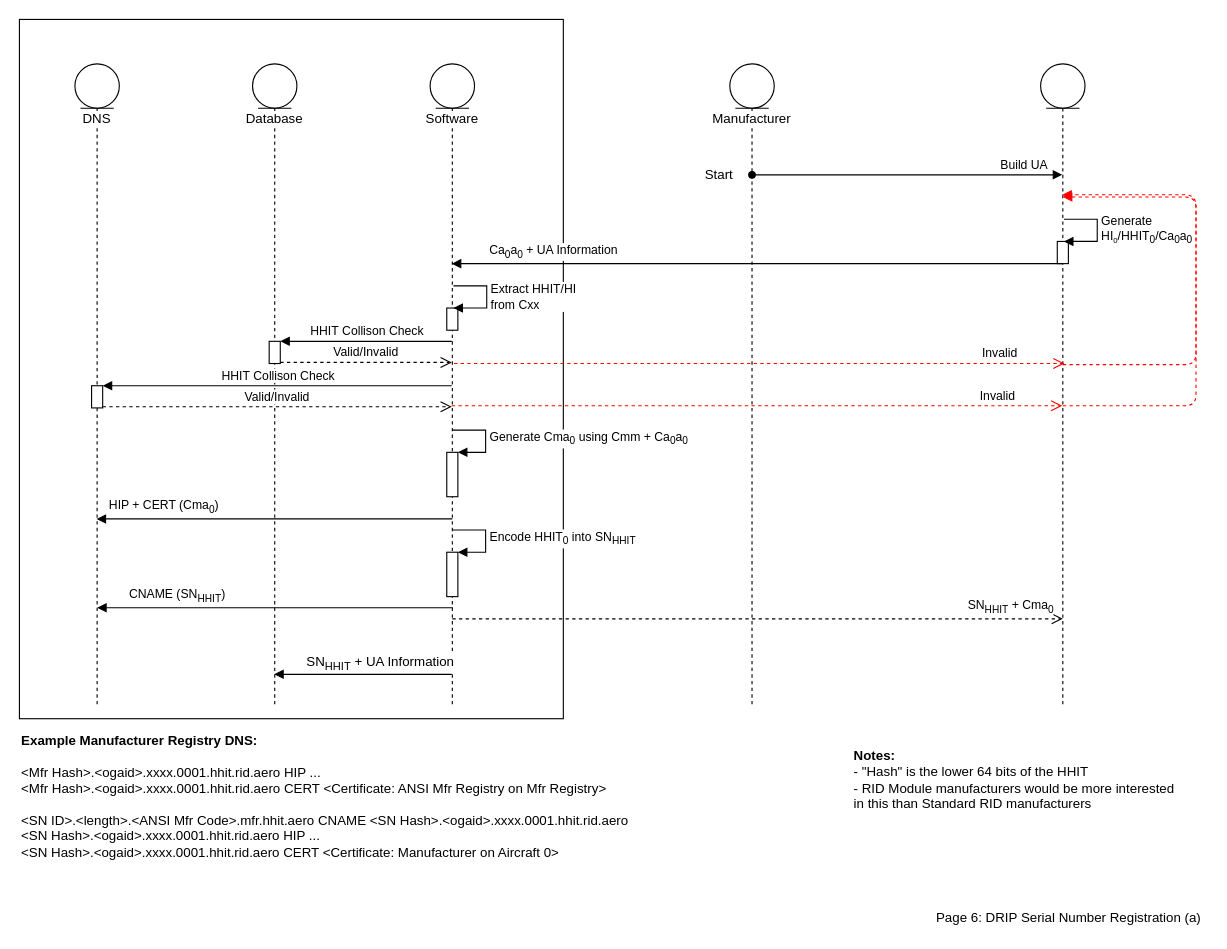
Some shapes in this 1227 by 949 pixel diagram are drawn without their labels. The box of each missing label's shape, as (x1, y1, x2, y2) in pixels:
Manufacturer Registry: (18, 18, 563, 719)
Unmanned Aircraft: (1040, 63, 1085, 708)
